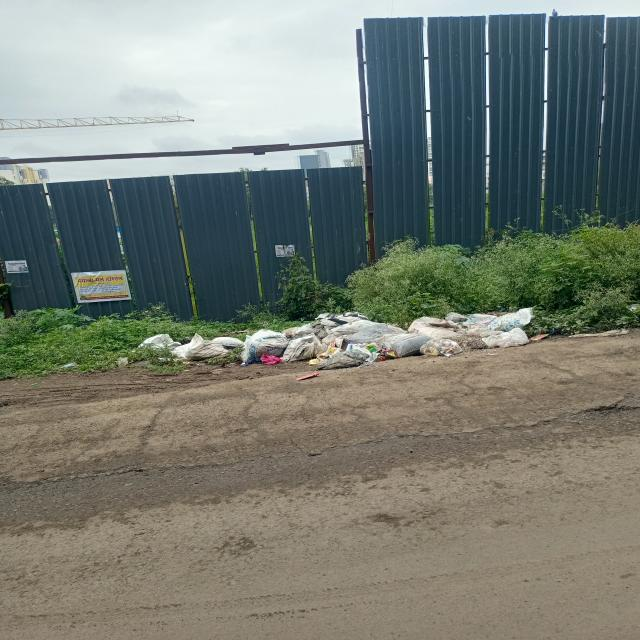garbage: (178, 312, 524, 367)
